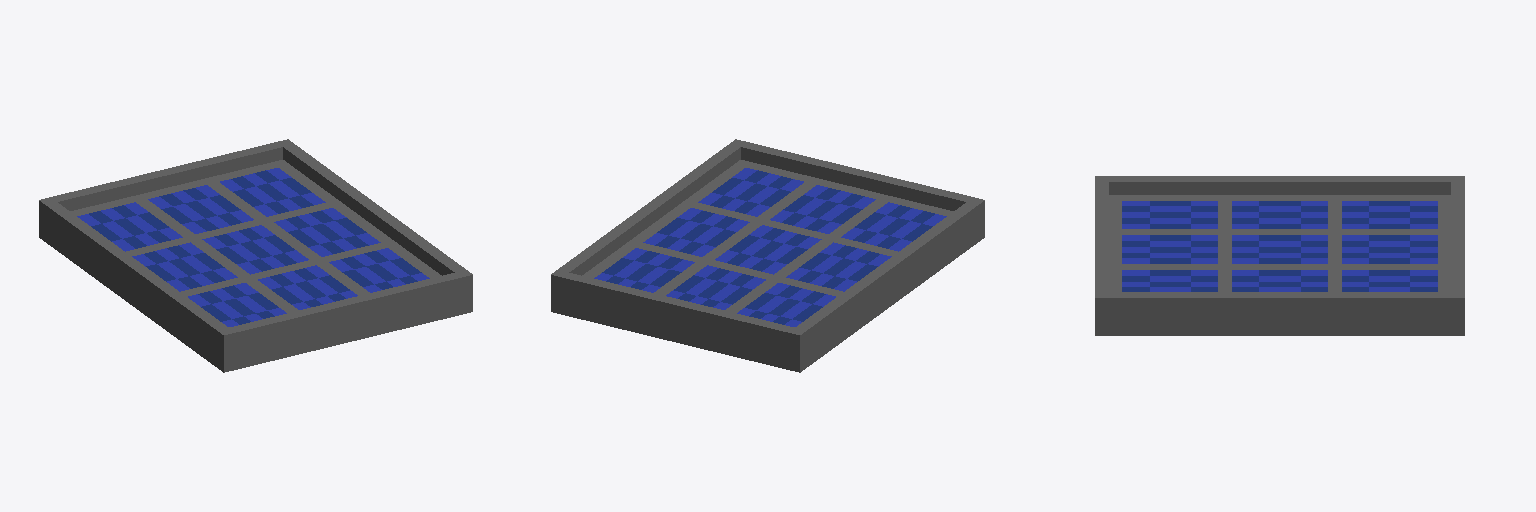
3 renders of one model, left to right at view 1: azimuth 30°, elevation 25°; view 2: azimuth 150°, elevation 25°; view 3: azimuth 270°, elevation 25°, orthographic.
Visible parts, largest first — view 1: object 1; view 2: object 1; view 3: object 1.
Part boxes in pixels (bbox=[...]): object 1: bbox=[39, 139, 472, 372]; object 1: bbox=[551, 139, 984, 372]; object 1: bbox=[1095, 176, 1464, 335].
Bounding box in the file's own units: 2.1 × 0.3 × 2.7.
1 materials, 1 textured.